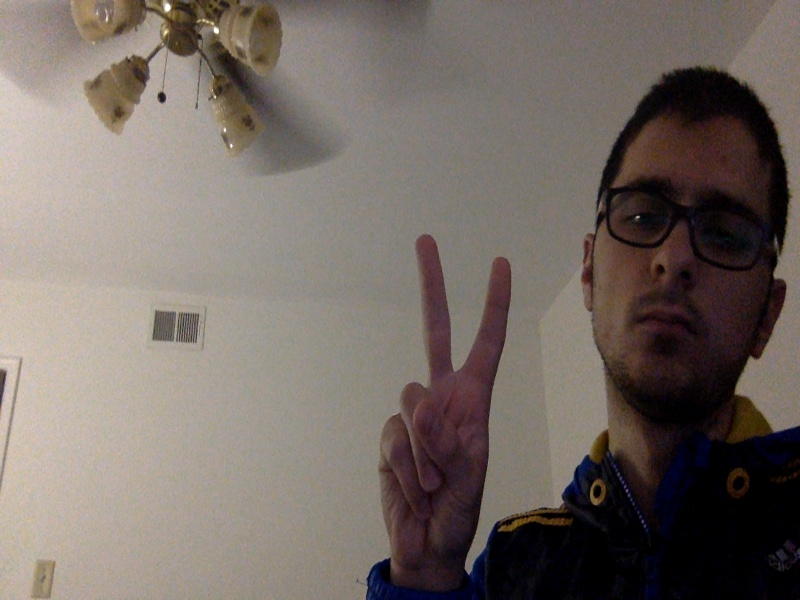2-hand: (376, 234, 510, 564)
